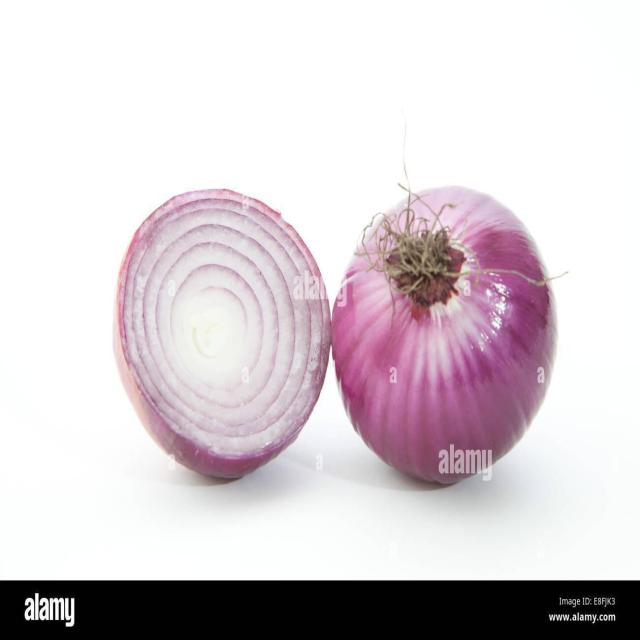Onion: (335, 162, 567, 487), (114, 188, 334, 480)
